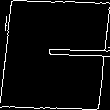L_W: (2, 38, 108, 72)
